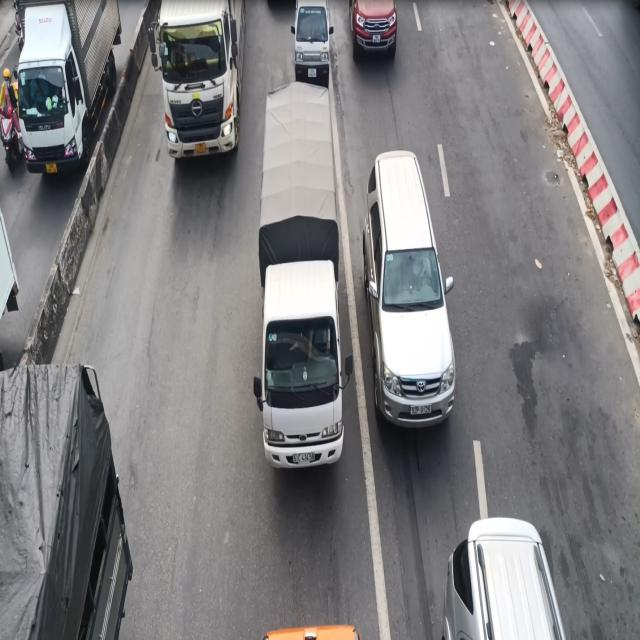car: (360, 142, 466, 439)
truck: (254, 80, 349, 487)
